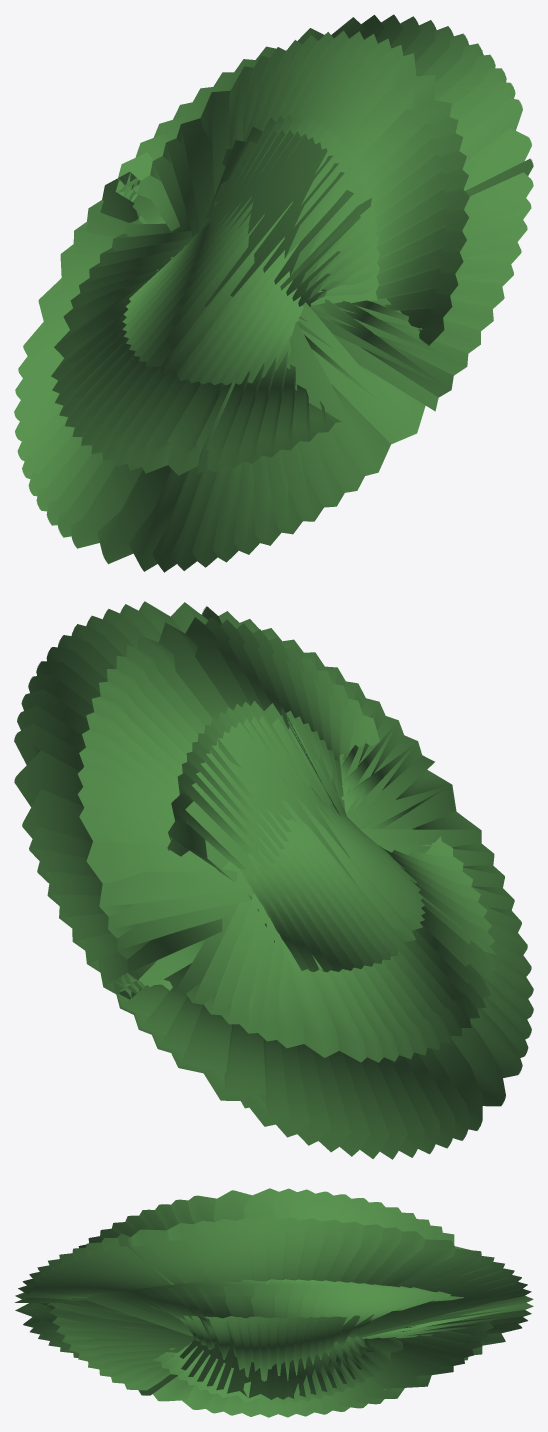
File: spherinder_5d_ar_universal (1).glb
The picture shows the model from 3 angles, top to bottom: view 1: azimuth 30°, elevation 25°; view 2: azimuth 150°, elevation 25°; view 3: azimuth 270°, elevation 25°; orthographic projection. The views are drawn at different scales.
Parts seen in each view (by area): view 1: spherinder_5d_ar; view 2: spherinder_5d_ar; view 3: spherinder_5d_ar.
Part boxes in pixels (x1=…): spherinder_5d_ar: x1=14, y1=14, x2=533, y2=572; spherinder_5d_ar: x1=14, y1=601, x2=533, y2=1159; spherinder_5d_ar: x1=14, y1=1188, x2=533, y2=1417.
Bounding box in the file's own units: 0.7356 × 0.7141 × 1.
